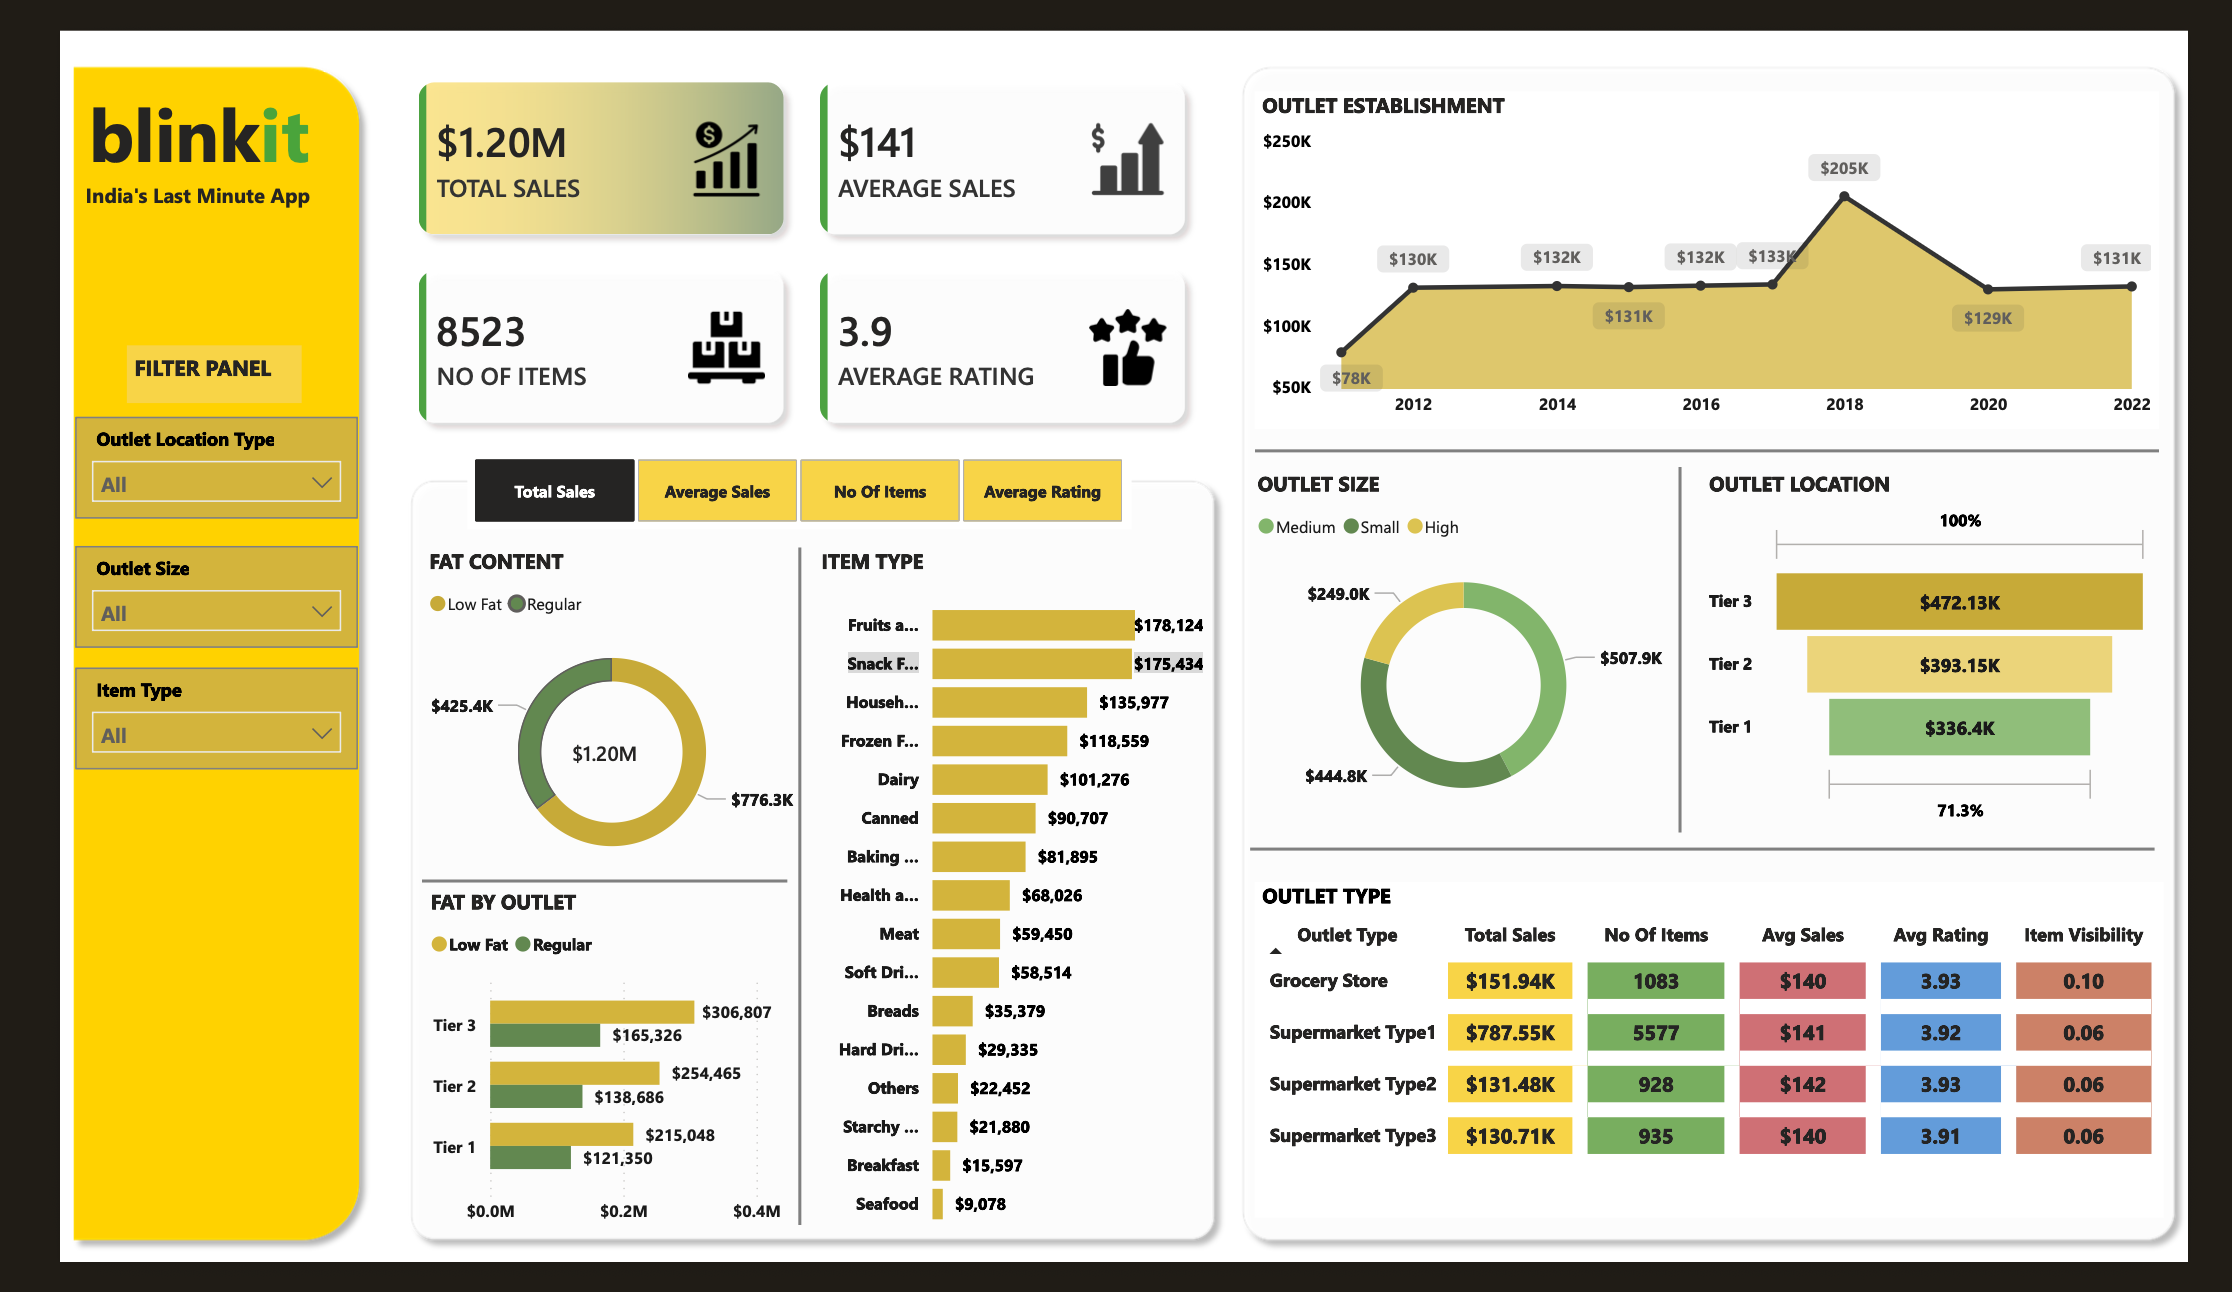

Layout of this report page (visuals, bound fields, positions):
{"tool":"powerbi","page":{"name":"Page 1","canvas":[1400,800],"ordinal":0},"visuals":[{"type":"shape","box":[0,9.7,205.8,789.7],"z":0},{"type":"textbox","box":[0,23.6,183.5,82],"z":1000},{"type":"textbox","box":[12,89.1,159.4,34.3],"z":2000},{"type":"cardVisual","fields":{"Data":["BlinkIT Grocery Data.Total Sales","BlinkIT Grocery Data.Average Sales","BlinkIT Grocery Data.No Of Items","BlinkIT Grocery Data.Average Rating"]},"box":[207.1,0,563.1,282.2],"z":3000},{"type":"shape","box":[222.4,282.2,546.4,517.2],"z":4000},{"type":"donutChart","title":"FAT CONTENT","fields":{"Category":["BlinkIT Grocery Data.Item Fat Content"],"Y":["BlinkIT Grocery Data.Total Sales"]},"box":[237.7,335.1,250.2,223.8],"z":5000},{"type":"advancedSlicerVisual","fields":{"Values":["Metrics.Metrics"]},"box":[268.3,272.5,436.5,51.4],"z":6000},{"type":"cardVisual","fields":{"Data":["BlinkIT Grocery Data.Total Sales"]},"box":[304.5,437.9,109.8,64],"z":7000},{"type":"clusteredBarChart","title":"FAT BY OUTLET","fields":{"Category":["BlinkIT Grocery Data.Outlet Location Type"],"Series":["BlinkIT Grocery Data.Item Fat Content"],"Y":["BlinkIT Grocery Data.Total Sales"]},"box":[239.1,558.9,250.2,229.4],"z":8000},{"type":"barChart","title":"ITEM TYPE","fields":{"Category":["BlinkIT Grocery Data.Item Type"],"Y":["BlinkIT Grocery Data.Total Sales"]},"box":[496.3,335.1,261.4,457.4],"z":8001},{"type":"shape","box":[237.7,543.6,240.5,20.9],"z":8002},{"type":"shape","box":[476.9,335.1,19.5,446.3],"z":8003},{"type":"shape","box":[768.8,9.7,631.2,789.7],"z":8004},{"type":"lineChart","title":"OUTLET ESTABLISHMENT","fields":{"Category":["BlinkIT Grocery Data.Outlet Establishment Year"],"Y":["BlinkIT Grocery Data.Total Sales"]},"box":[785.5,34.8,595,222.4],"z":8005},{"type":"shape","box":[785.5,261.4,595,20.9],"z":8006},{"type":"donutChart","title":"OUTLET SIZE","fields":{"Category":["BlinkIT Grocery Data.Outlet Size"],"Y":["BlinkIT Grocery Data.Total Sales"]},"box":[782.7,283.6,280.8,237.7],"z":8007},{"type":"funnel","title":"OUTLET LOCATION","fields":{"Category":["BlinkIT Grocery Data.Outlet Location Type"],"Y":["Sum(BlinkIT Grocery Data.Sales)"]},"box":[1080.2,283.6,300.3,237.7],"z":8008},{"type":"shape","box":[1053.8,282.2,23.6,240.5],"z":8009},{"type":"shape","box":[782.7,522.7,595,20.9],"z":8010},{"type":"pivotTable","title":"OUTLET TYPE","fields":{"Rows":["BlinkIT Grocery Data.Outlet Type"],"Values":["BlinkIT Grocery Data.Total Sales","BlinkIT Grocery Data.No Of Items","BlinkIT Grocery Data.Average Sales","BlinkIT Grocery Data.Average Rating","Avg(BlinkIT Grocery Data.Item Visibility)"]},"box":[785.5,554.7,597.8,221.1],"z":8011},{"type":"slicer","fields":{"Values":["BlinkIT Grocery Data.Outlet Location Type"]},"box":[9.7,248.9,186.3,66.7],"z":8012},{"type":"slicer","fields":{"Values":["BlinkIT Grocery Data.Outlet Size"]},"box":[9.7,333.7,186.3,66.7],"z":8013},{"type":"slicer","fields":{"Values":["BlinkIT Grocery Data.Item Type"]},"box":[9.7,414.3,186.3,66.7],"z":8014},{"type":"textbox","box":[44.5,201.6,115.4,37.5],"z":8015}]}

Visuals, with their boxes in screenshot pixels (x1, y1, x2, y2), scaled from the page's 1400x800 canvas onto the 2232x1292 screenshot:
shape: detection(0, 16, 328, 1291)
textbox: detection(0, 38, 293, 171)
textbox: detection(19, 144, 273, 199)
cardVisual - BlinkIT Grocery Data.Total Sales x BlinkIT Grocery Data.Average Sales: detection(330, 0, 1228, 456)
shape: detection(355, 456, 1226, 1291)
"FAT CONTENT" donutChart: detection(379, 541, 778, 903)
advancedSlicerVisual - Metrics.Metrics: detection(428, 440, 1124, 523)
cardVisual - BlinkIT Grocery Data.Total Sales: detection(485, 707, 661, 811)
"FAT BY OUTLET" clusteredBarChart: detection(381, 903, 780, 1273)
"ITEM TYPE" barChart: detection(791, 541, 1208, 1280)
shape: detection(379, 878, 762, 912)
shape: detection(760, 541, 791, 1262)
shape: detection(1226, 16, 2231, 1291)
"OUTLET ESTABLISHMENT" lineChart: detection(1252, 56, 2201, 415)
shape: detection(1252, 422, 2201, 456)
"OUTLET SIZE" donutChart: detection(1248, 458, 1696, 842)
"OUTLET LOCATION" funnel: detection(1722, 458, 2201, 842)
shape: detection(1680, 456, 1718, 844)
shape: detection(1248, 844, 2196, 878)
"OUTLET TYPE" pivotTable: detection(1252, 896, 2205, 1253)
slicer - BlinkIT Grocery Data.Outlet Location Type: detection(15, 402, 312, 510)
slicer - BlinkIT Grocery Data.Outlet Size: detection(15, 539, 312, 647)
slicer - BlinkIT Grocery Data.Item Type: detection(15, 669, 312, 777)
textbox: detection(71, 326, 255, 386)
